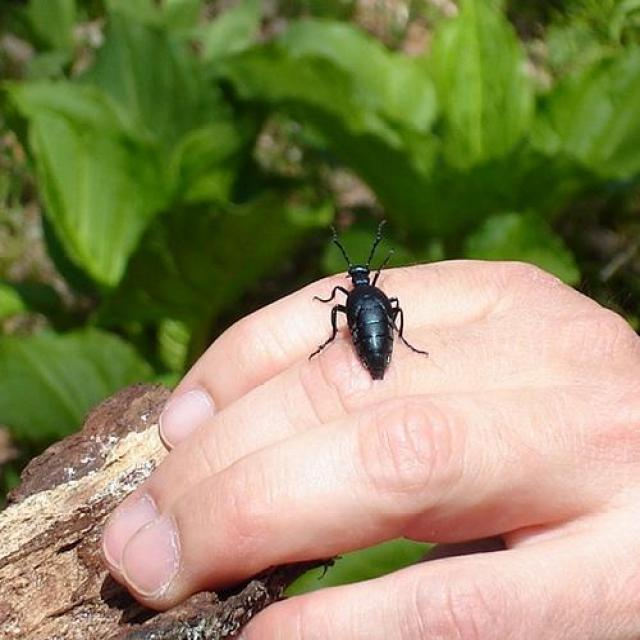BlisterBeetle-Adult-: (307, 222, 433, 384)
